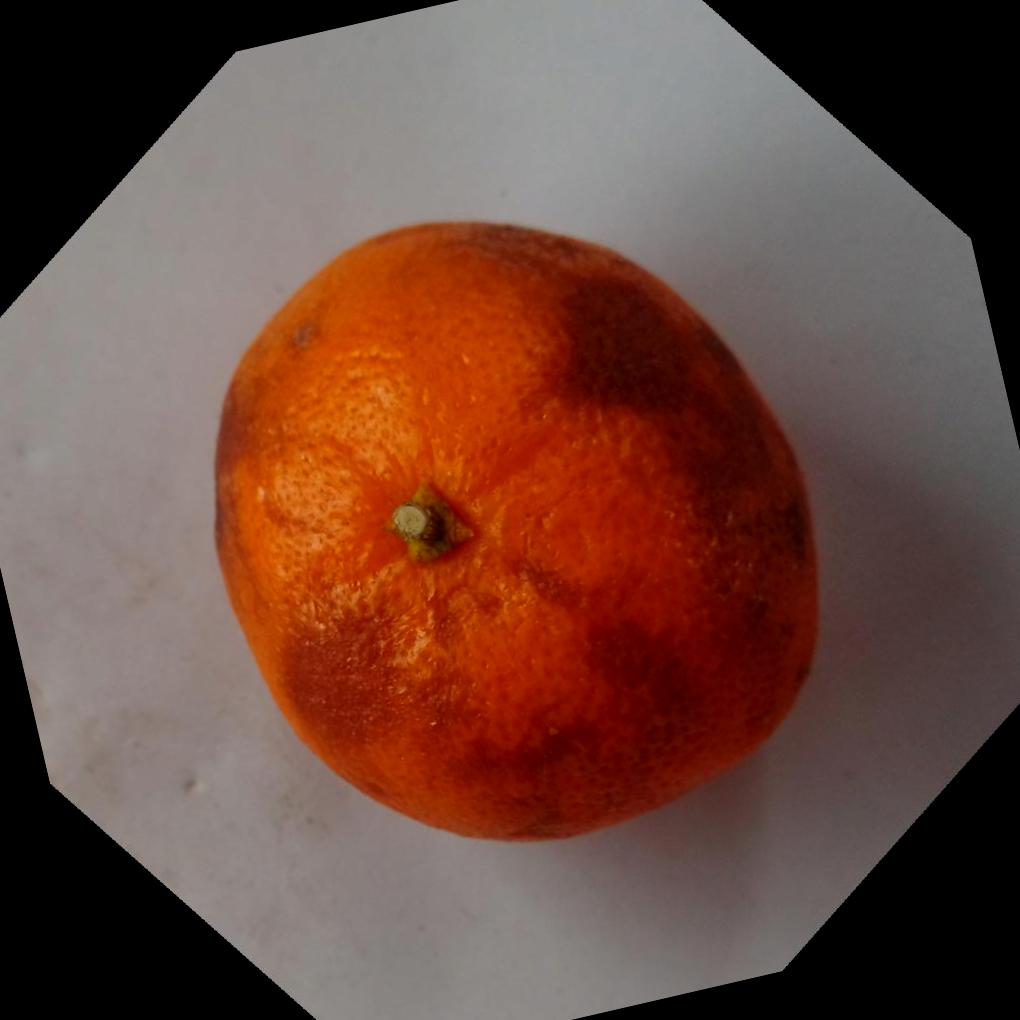FreshOrange: (214, 216, 825, 843)
